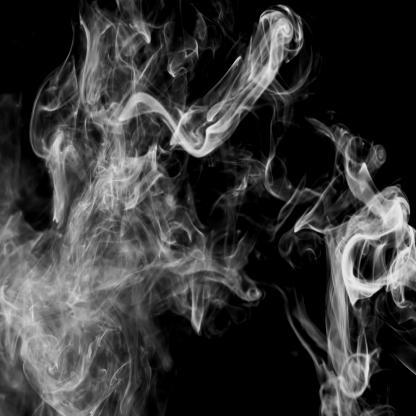smoke: (54, 6, 305, 288), (0, 250, 200, 416), (304, 146, 410, 416)
